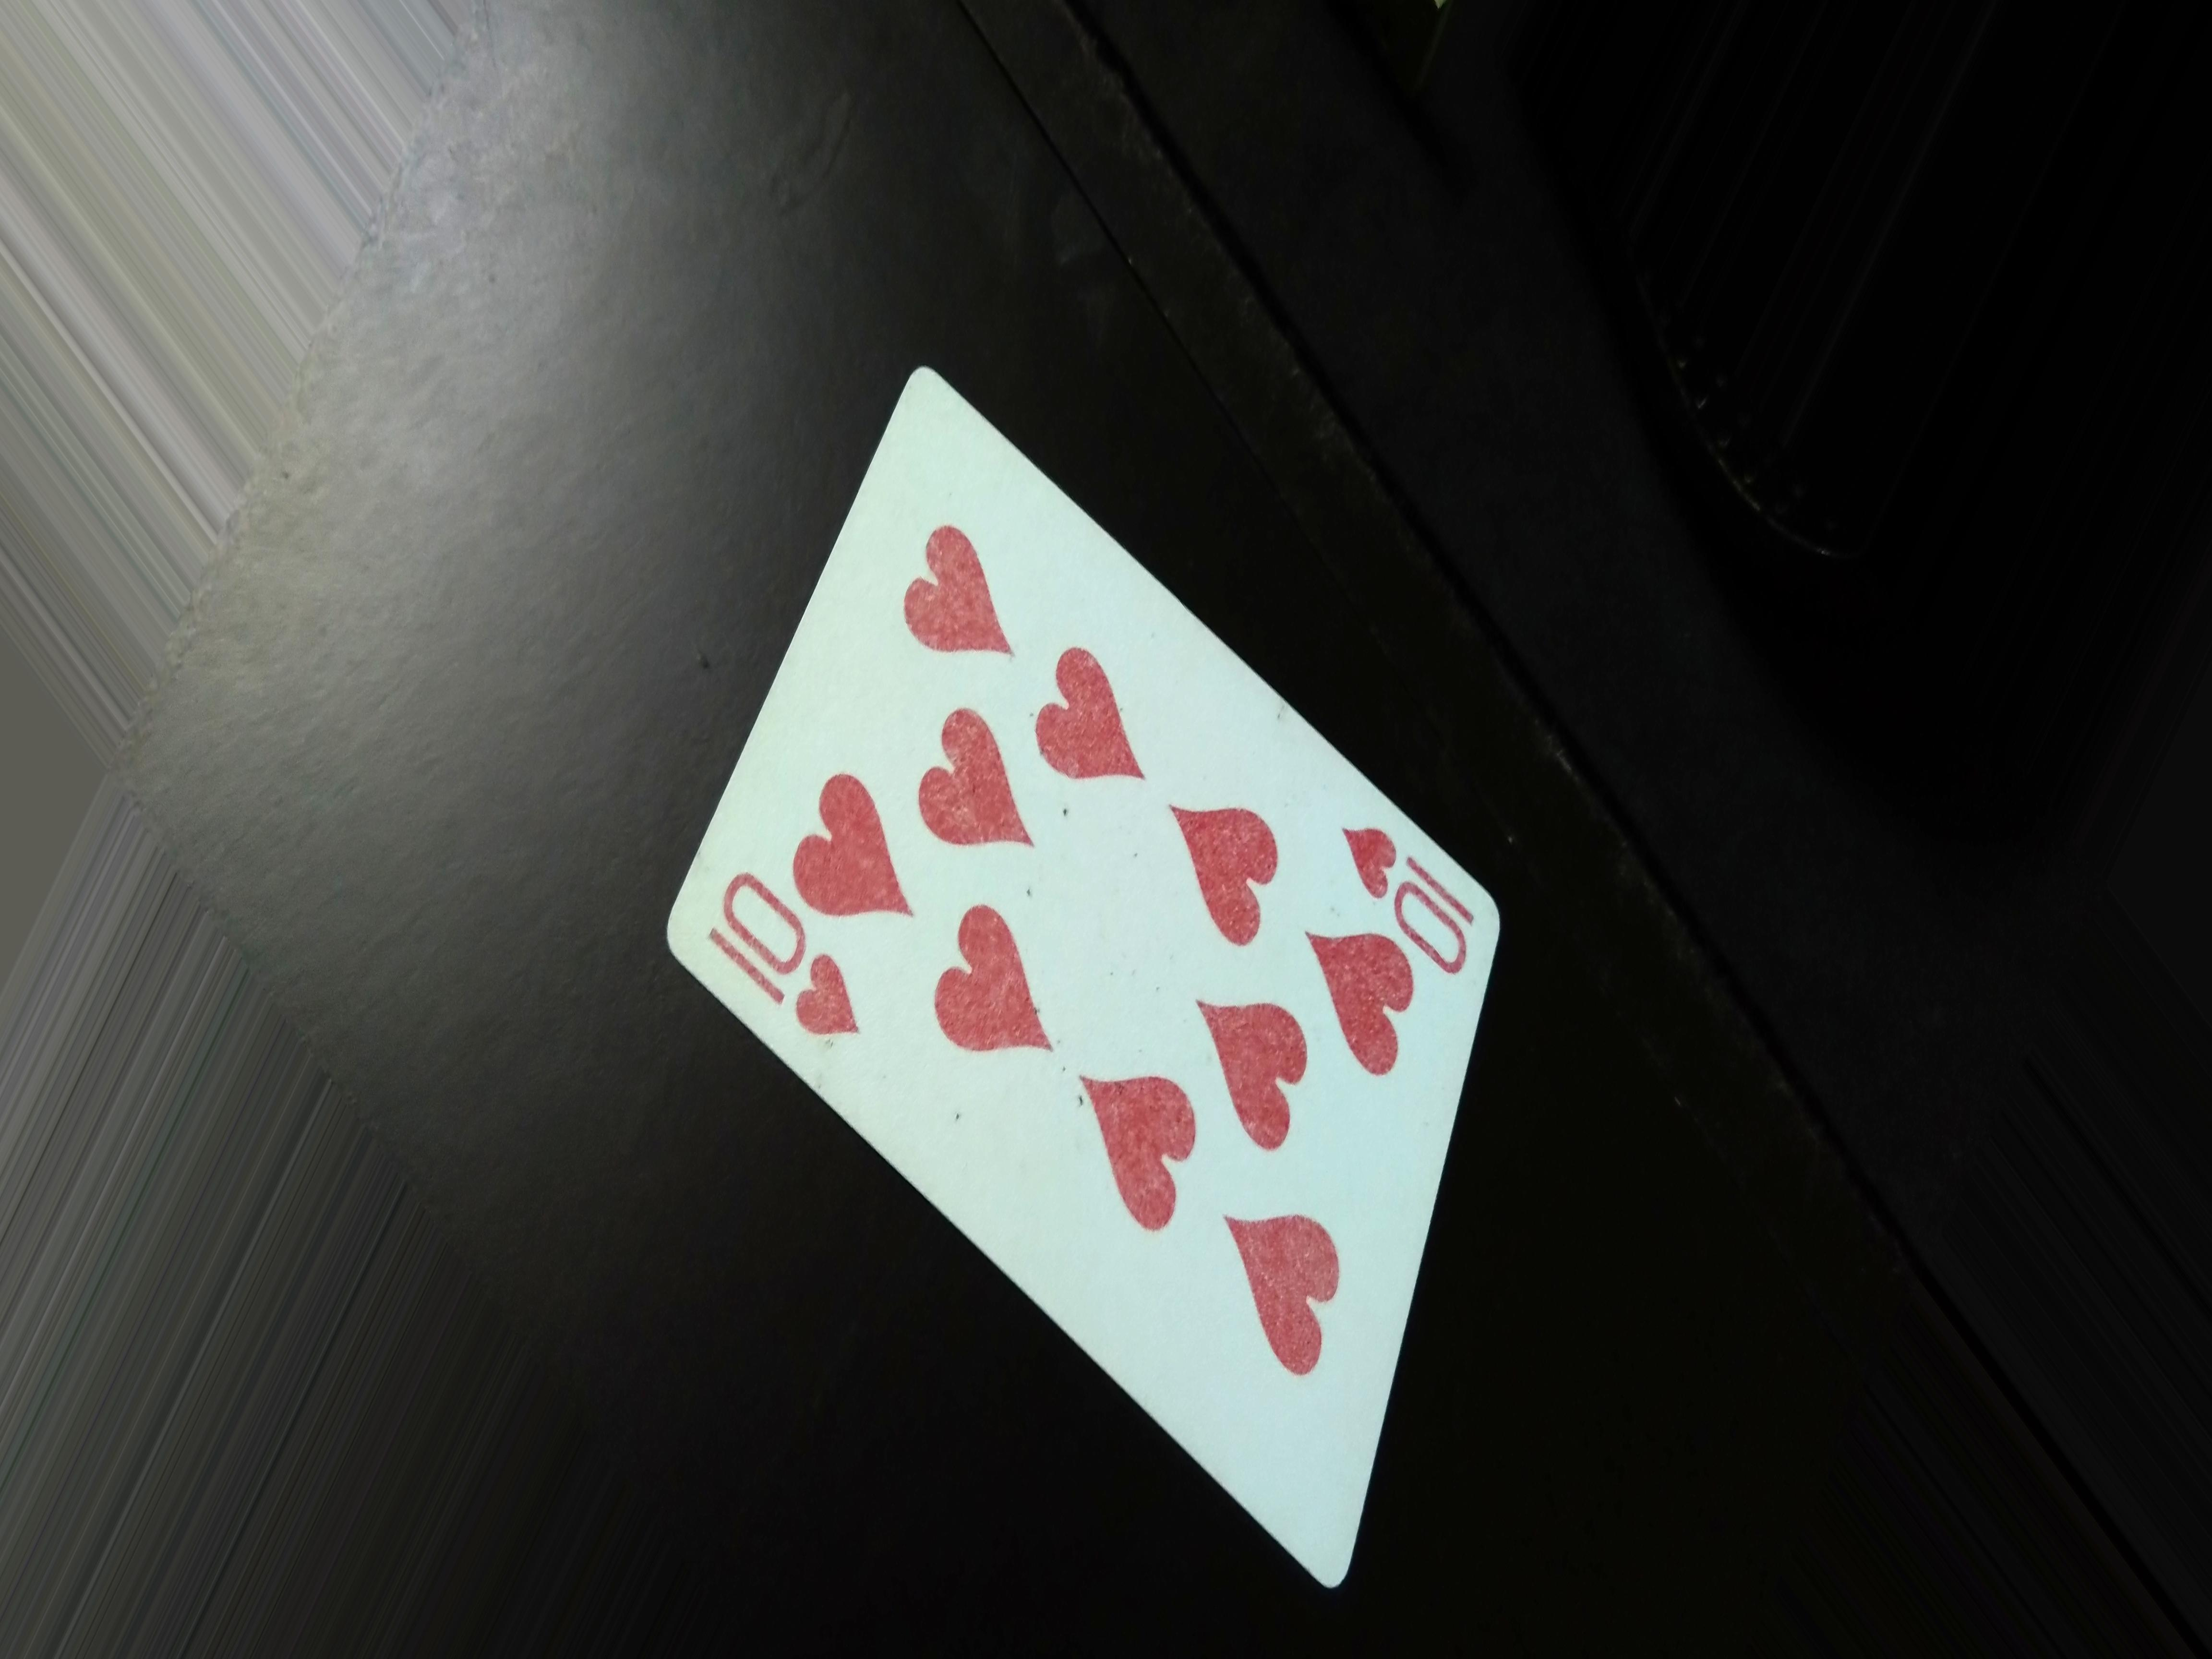10H: (702, 859, 874, 1075)
